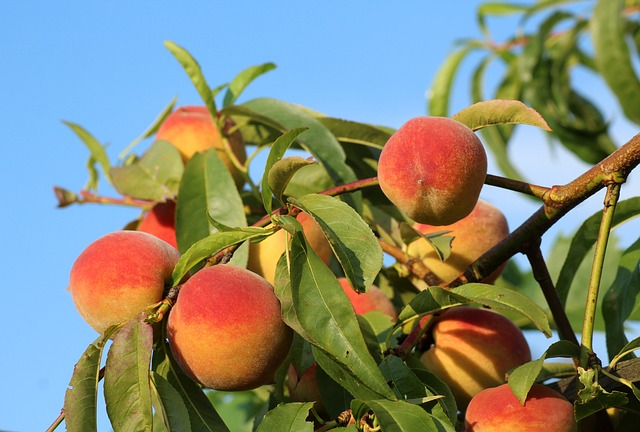peach: (166, 264, 291, 391), (377, 117, 487, 228), (406, 310, 536, 399), (70, 230, 179, 334)
